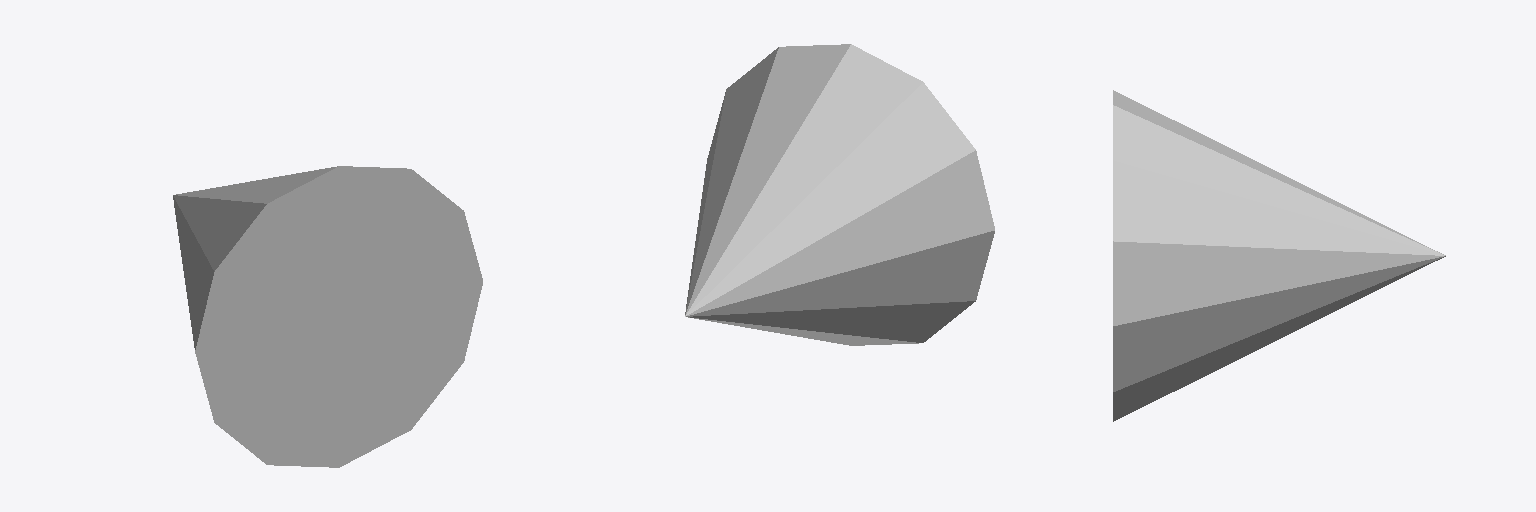
The model's file is spotlight.obj.
3 views of the same model, side by side, from view 1: azimuth 30°, elevation 25°; view 2: azimuth 150°, elevation 25°; view 3: azimuth 270°, elevation 25° (orthographic).
Bounding box in the file's own units: 1 × 1 × 1.